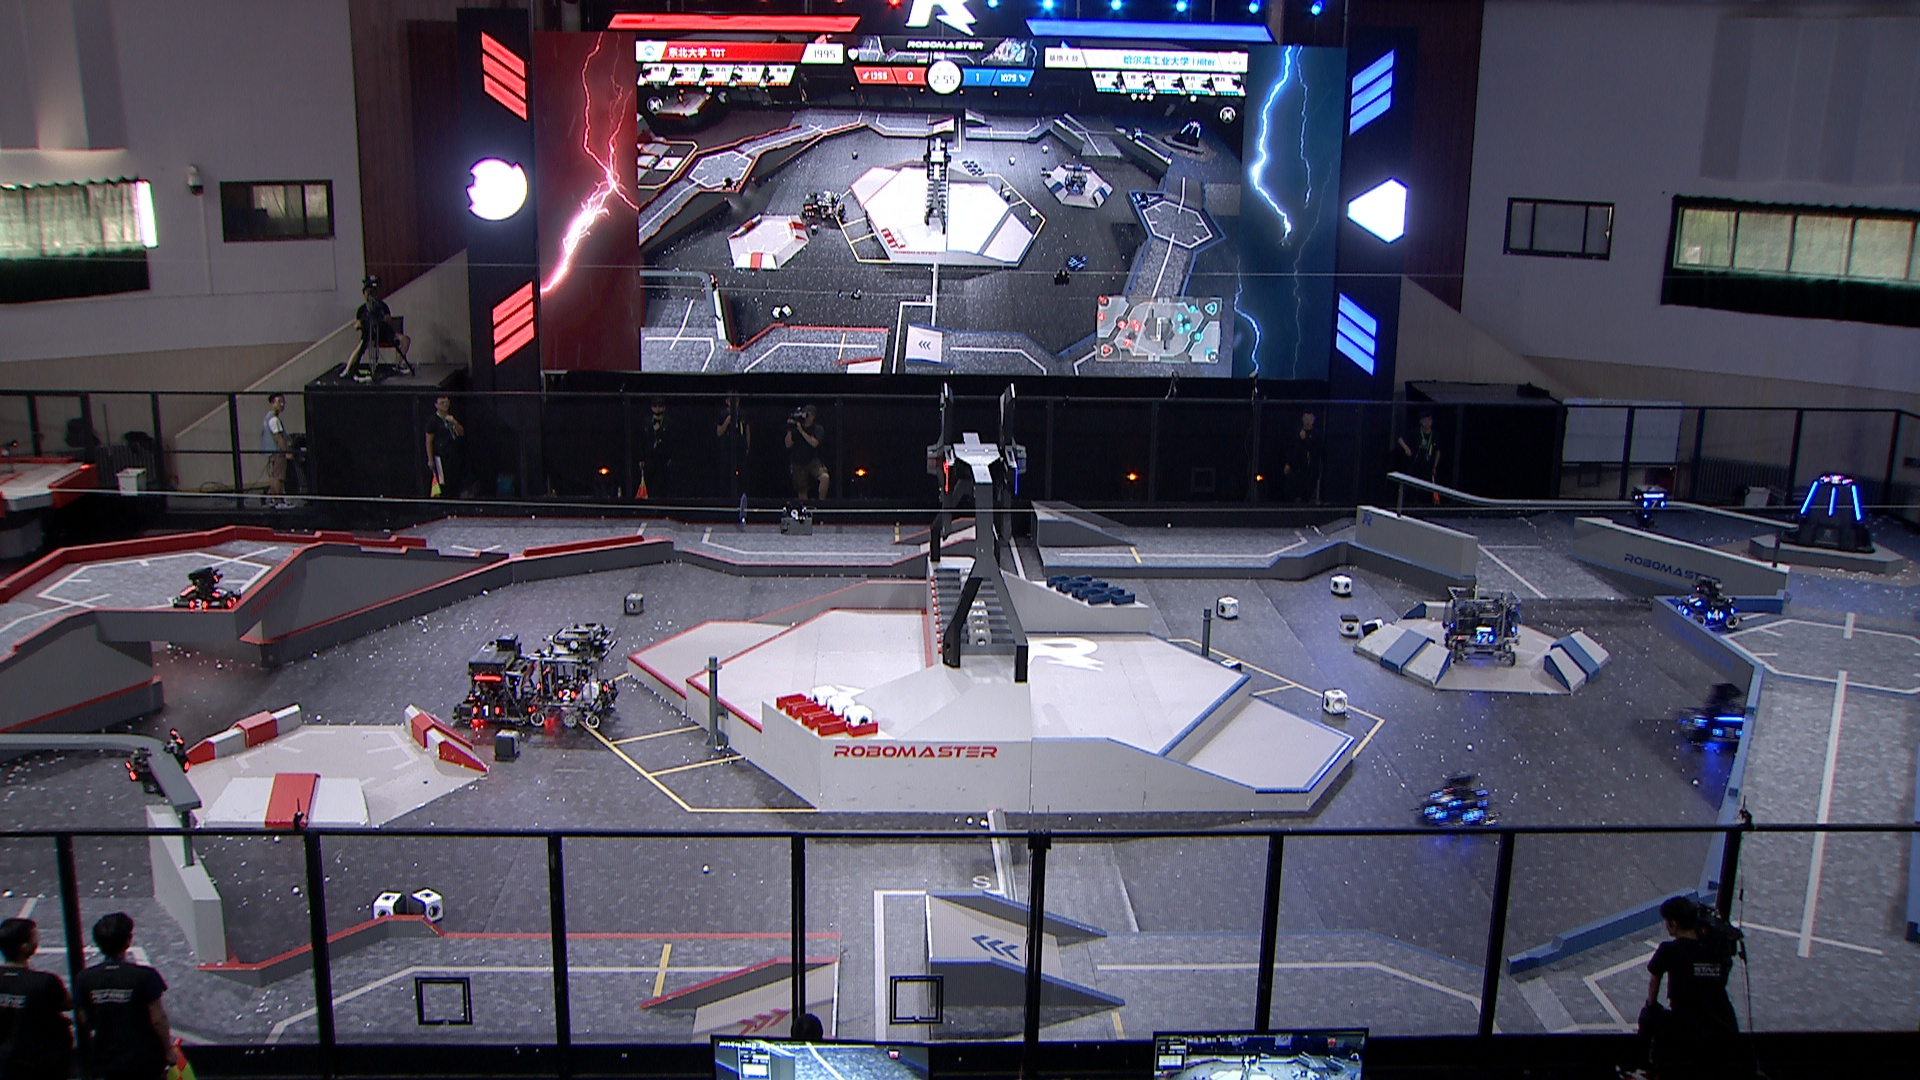armor: (1712, 723, 1743, 744), (120, 756, 142, 783), (1803, 477, 1818, 516), (469, 702, 500, 721), (1850, 481, 1865, 520), (1429, 789, 1457, 808), (1460, 807, 1487, 825), (1425, 800, 1447, 823), (1704, 604, 1727, 622), (1688, 707, 1708, 728), (1683, 591, 1705, 609), (1476, 629, 1495, 647), (189, 599, 211, 612), (597, 678, 615, 695), (1826, 485, 1836, 517), (1642, 498, 1665, 510), (208, 585, 229, 599), (1671, 603, 1688, 618), (556, 688, 576, 702), (224, 593, 240, 609)
base: (1783, 471, 1876, 553)
car: (526, 621, 622, 731), (452, 636, 543, 736), (1671, 676, 1770, 754), (1441, 580, 1524, 666), (1416, 767, 1503, 833), (1664, 574, 1745, 633), (166, 562, 248, 618)
ignore: (814, 187, 849, 225), (1174, 119, 1207, 149), (798, 190, 825, 223), (1065, 166, 1091, 199), (1063, 248, 1091, 272), (1820, 471, 1851, 487)
watcher: (121, 727, 193, 804), (1629, 481, 1669, 534)
